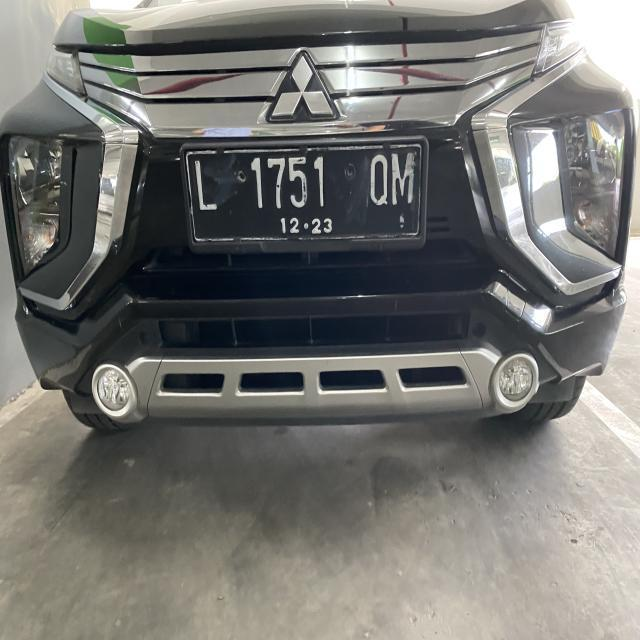1: (247, 154, 268, 212), (312, 153, 330, 210)
5: (288, 155, 310, 211)
7: (268, 153, 286, 210)
L: (190, 156, 219, 216)
M: (392, 150, 414, 208)
Q: (364, 152, 390, 211)
